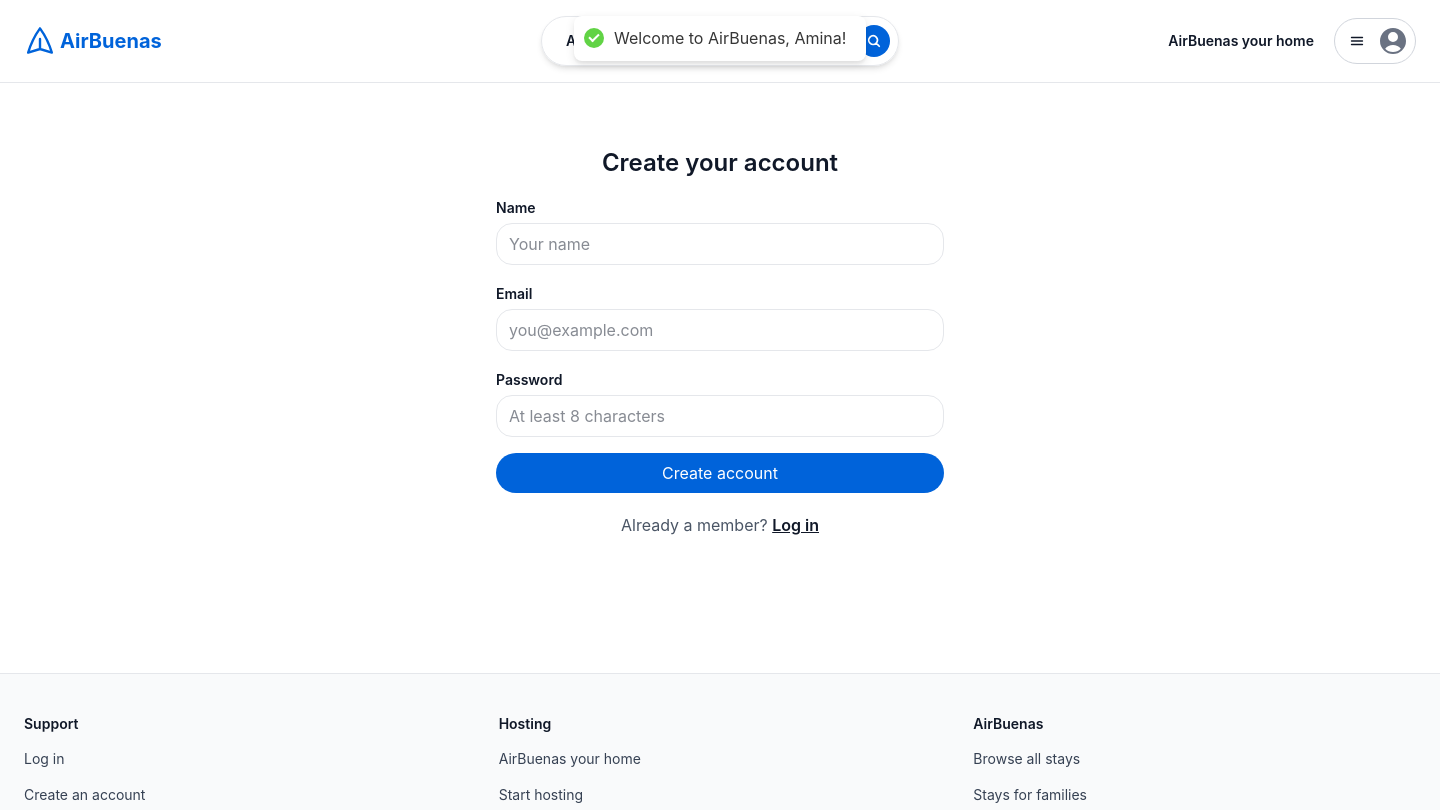
Test: LoginPage and RegisterPage › shows registration errors and redirects signed-in users
Type "Amina" into the field labelled "Name".
click(720, 244); type("Amina")  # box [496, 223, 944, 265]
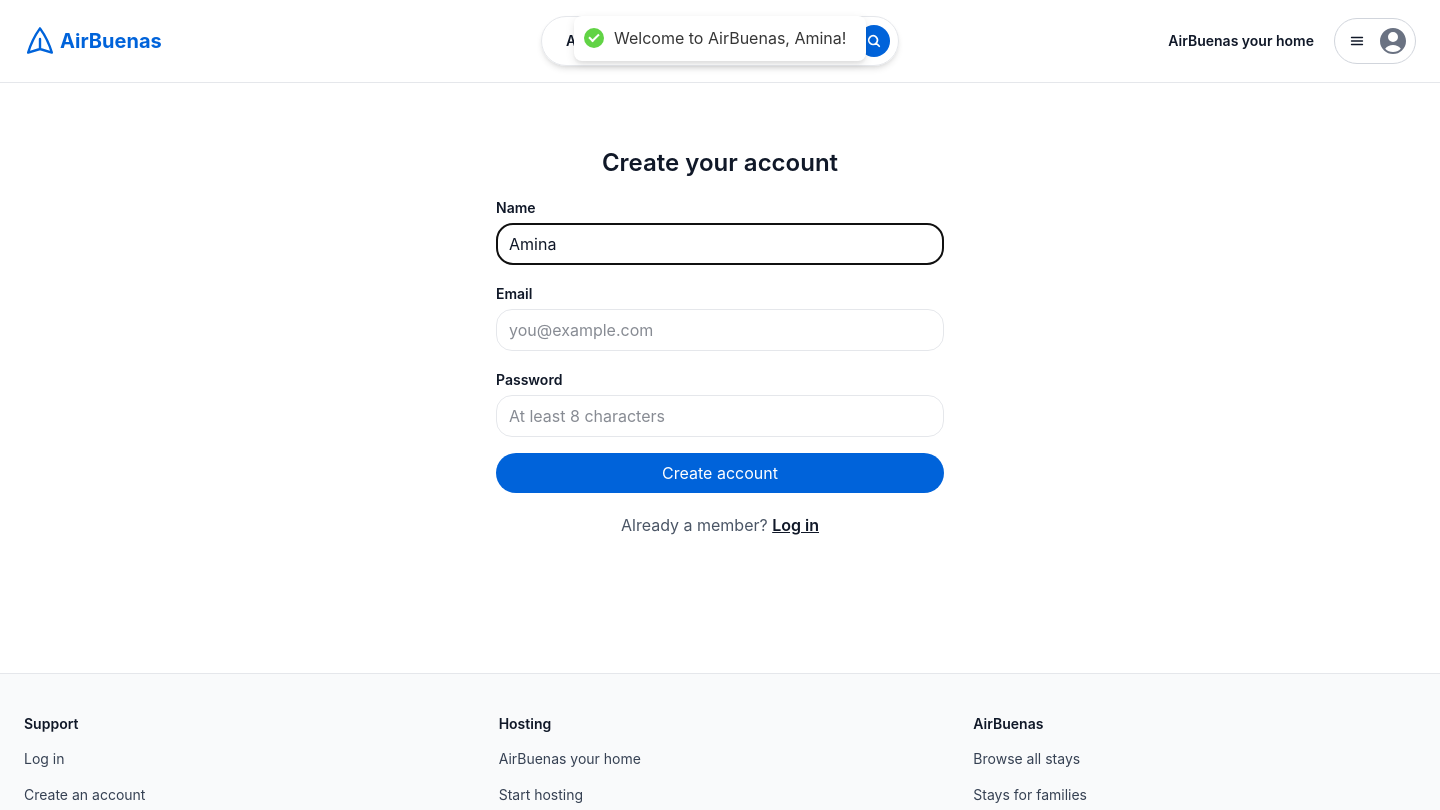
Type "amina@example.com" into the field labelled "Email".
click(720, 330); type("amina@example.com")  # box [496, 309, 944, 351]
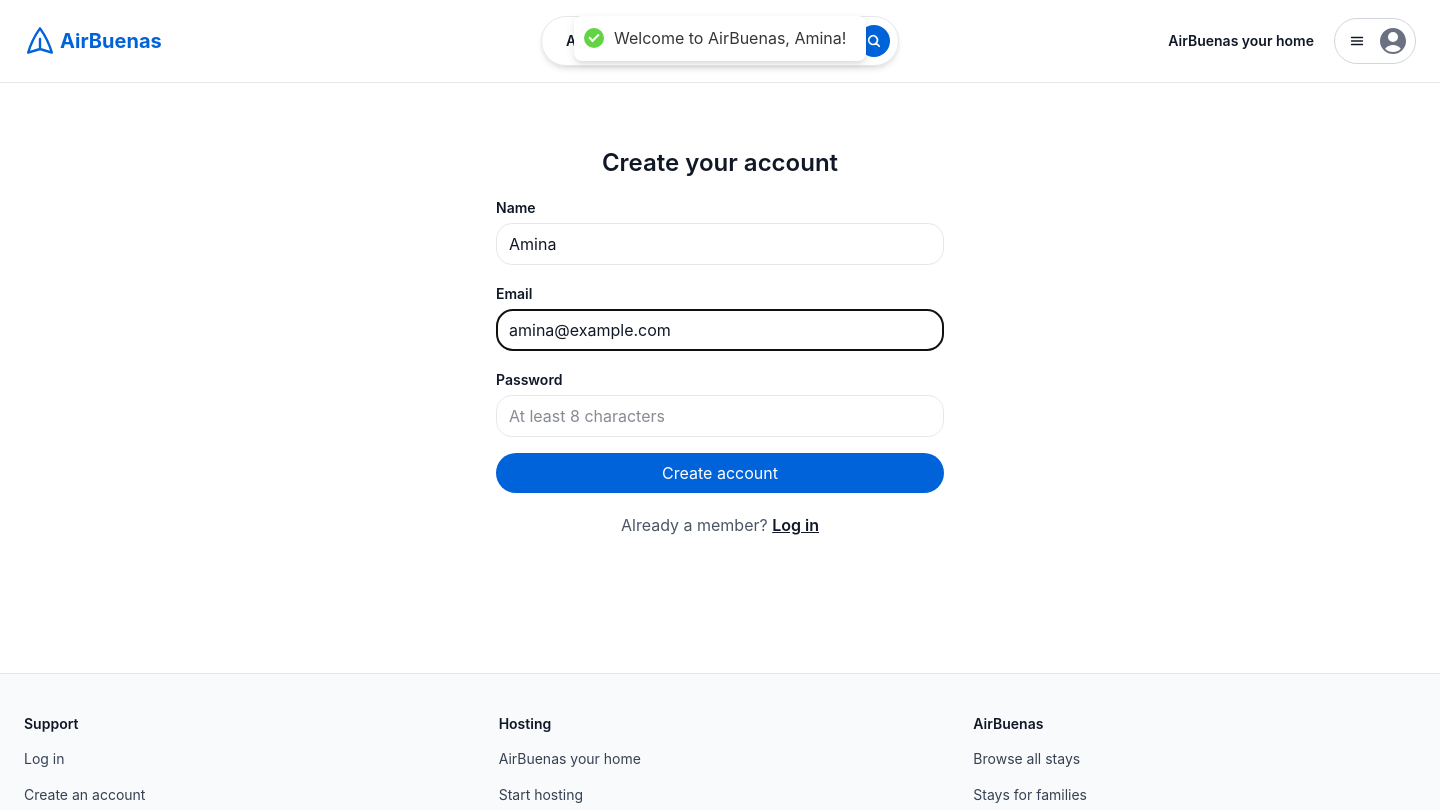
Type "long enough" into the password field labelled "Password".
click(720, 416); type("long enough")  # box [496, 395, 944, 437]
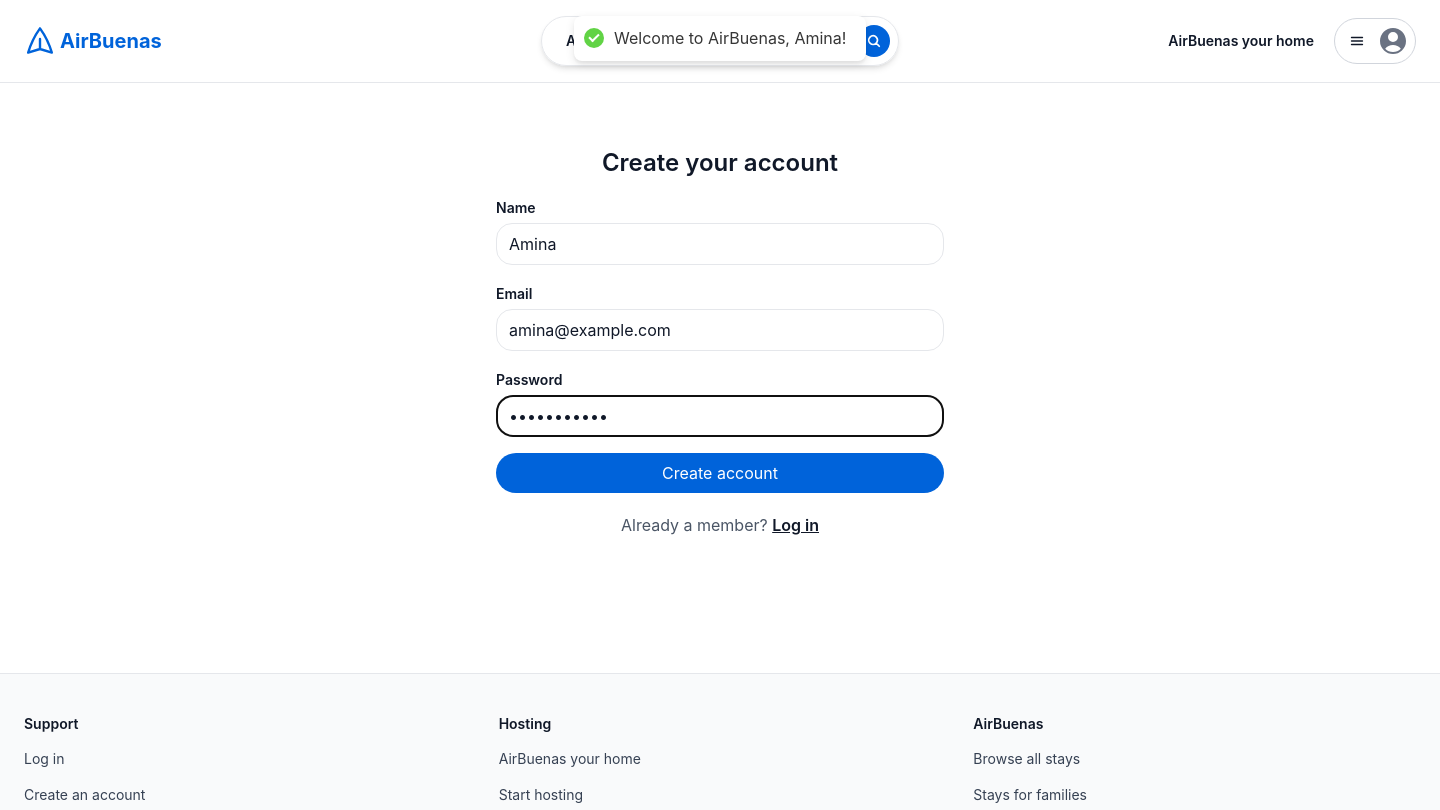
Click the button "Create account".
click(720, 473)  # box [496, 453, 944, 493]
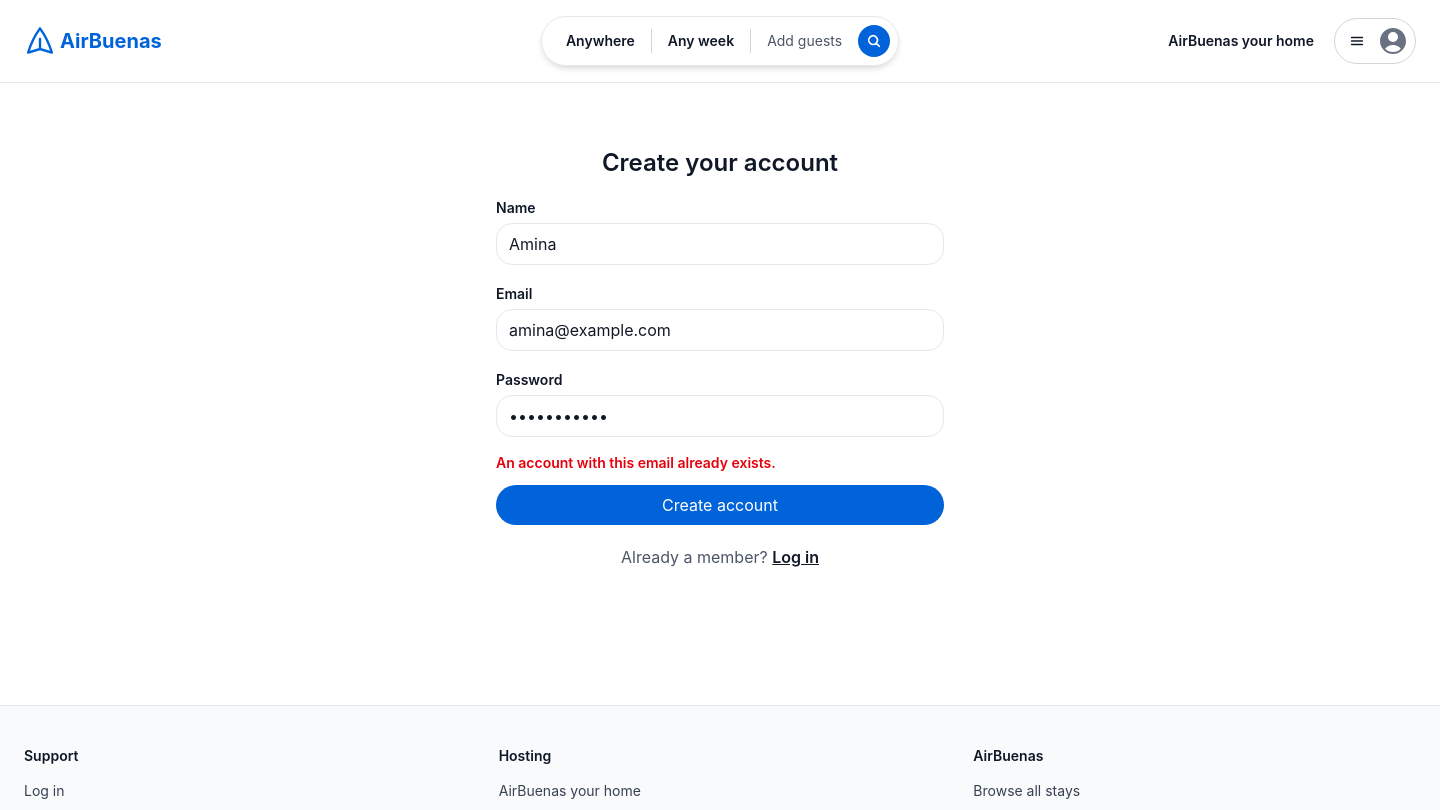
Result: the message shows "already exists" at [496, 454, 776, 471]
